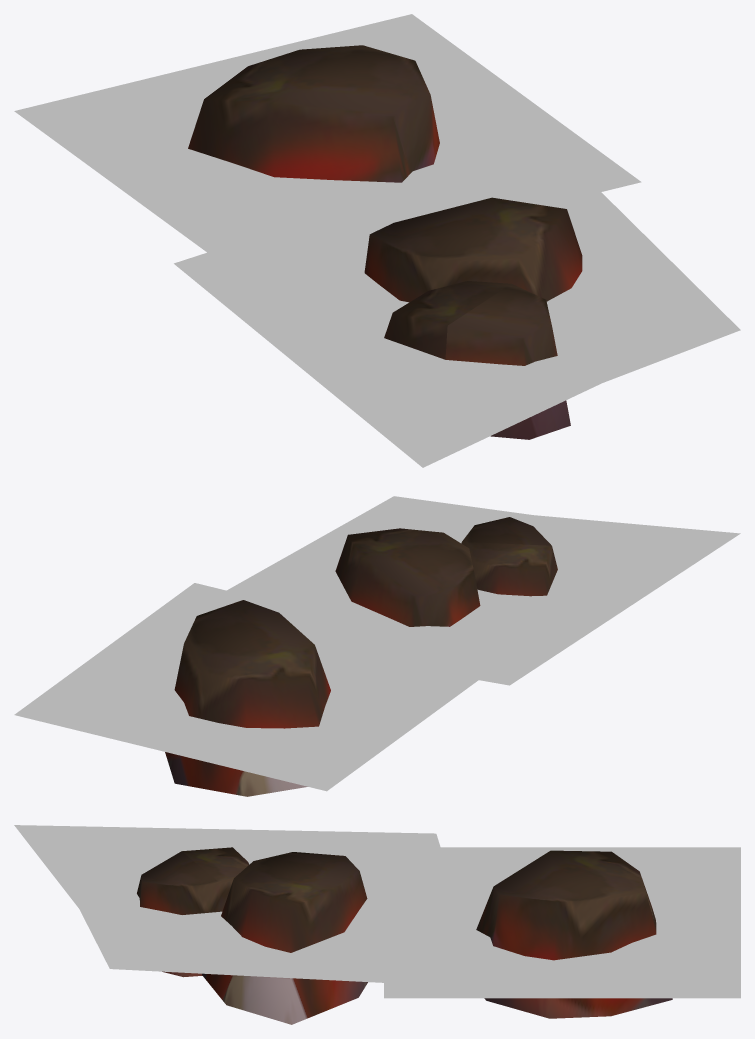
File: Rock_03.FBX
The picture shows the model from 3 angles, top to bottom: view 1: azimuth 30°, elevation 25°; view 2: azimuth 150°, elevation 25°; view 3: azimuth 270°, elevation 25°; orthographic projection. The views are drawn at different scales.
Parts seen in each view (by area): view 1: Rock_03Shadow, Rock_03; view 2: Rock_03Shadow, Rock_03; view 3: Rock_03Shadow, Rock_03.
Part boxes in pixels (x1,y1,x2,y2): Rock_03Shadow: [14, 14, 740, 467]; Rock_03: [188, 45, 582, 439]; Rock_03Shadow: [14, 496, 740, 791]; Rock_03: [165, 517, 557, 796]; Rock_03Shadow: [14, 825, 740, 998]; Rock_03: [137, 847, 672, 1024].
Bounding box in the file's own units: 140 × 43.35 × 248.
